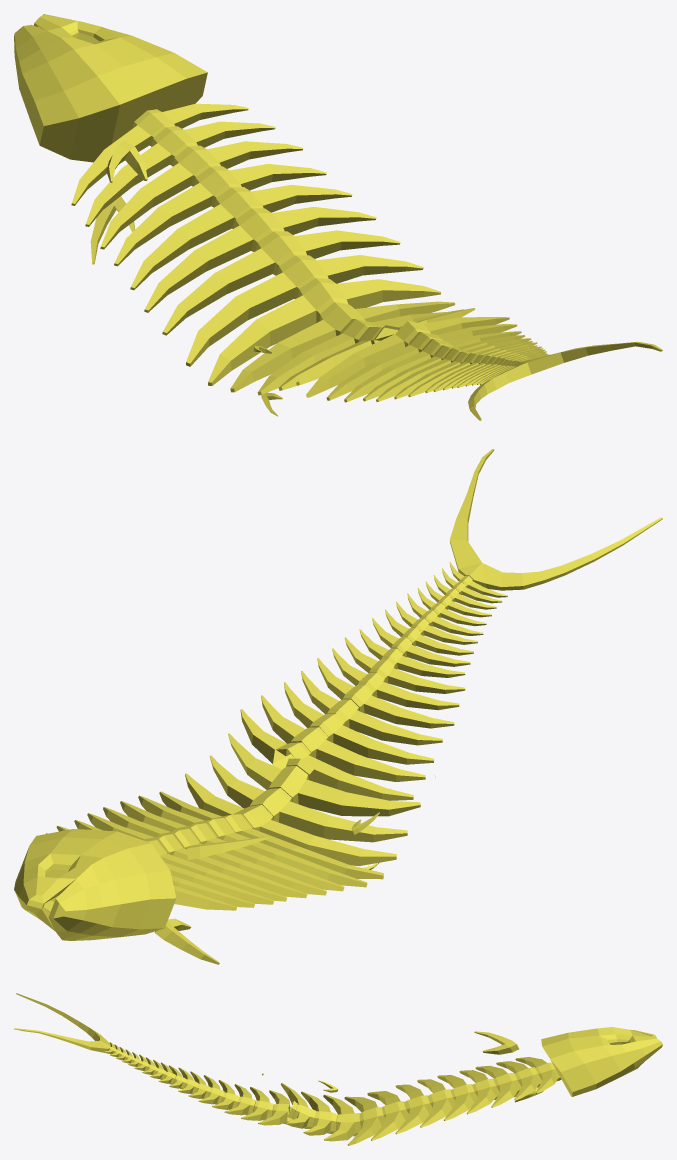
Rendered from skeleton.glb.
3 renders of one model, top to bottom at view 1: azimuth 30°, elevation 25°; view 2: azimuth 150°, elevation 25°; view 3: azimuth 270°, elevation 25°, orthographic. The views are drawn at different scales.
Parts seen in each view (by area): view 1: Object_4.001; view 2: Object_4.001; view 3: Object_4.001.
Part boxes in pixels (bbox=[...]): Object_4.001: bbox=[14, 14, 662, 420]; Object_4.001: bbox=[14, 449, 662, 964]; Object_4.001: bbox=[14, 993, 662, 1145].
Size of the model in its own units: 1.23 by 1.04 by 4.76.
